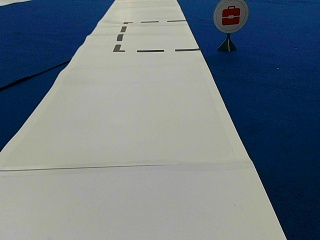company: (213, 0, 248, 32)
